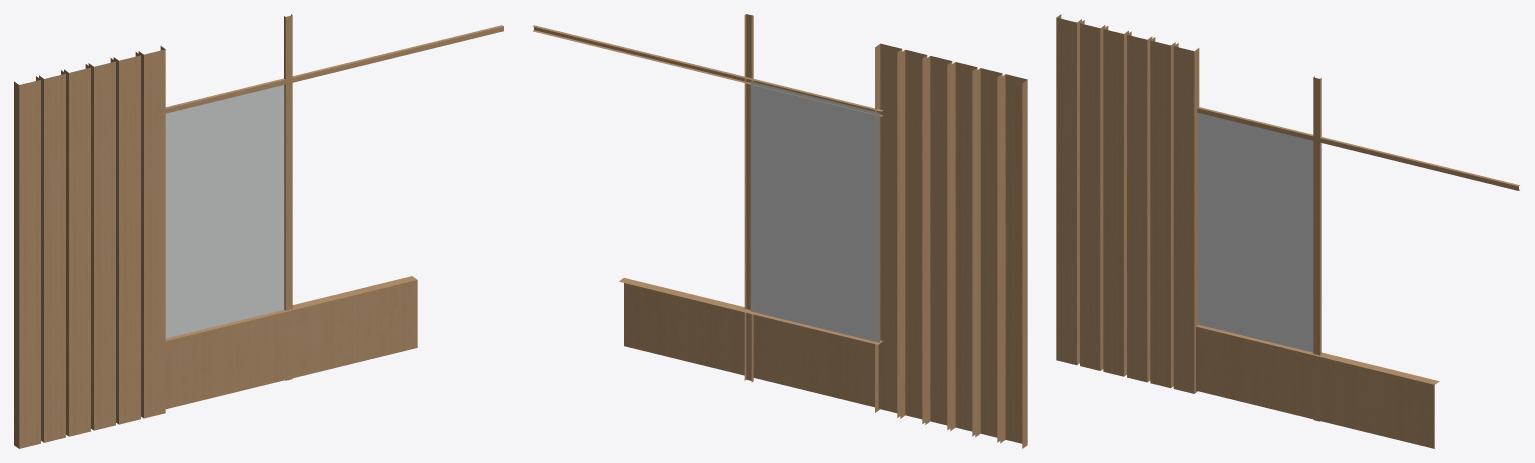
Rendered from M_zhuangshiqiangR06.FBX.
3 renders of one model, left to right at view 1: azimuth 30°, elevation 25°; view 2: azimuth 150°, elevation 25°; view 3: azimuth 330°, elevation 25°, orthographic. The views are drawn at different scales.
Parts seen in each view (by area): view 1: M_zhuangshiqiangR06_01, M_zhuangshiqiangR06_02; view 2: M_zhuangshiqiangR06_01, M_zhuangshiqiangR06_02; view 3: M_zhuangshiqiangR06_01, M_zhuangshiqiangR06_02.
Boxes of the visible parts, left/top/right/bottom form: M_zhuangshiqiangR06_01: left=14, top=14, right=503, bottom=448; M_zhuangshiqiangR06_02: left=165, top=85, right=284, bottom=338; M_zhuangshiqiangR06_01: left=532, top=14, right=1027, bottom=448; M_zhuangshiqiangR06_02: left=750, top=81, right=880, bottom=344; M_zhuangshiqiangR06_01: left=1056, top=14, right=1519, bottom=448; M_zhuangshiqiangR06_02: left=1198, top=113, right=1313, bottom=352.
Size of the model in its own units: 5.69 by 4.05 by 0.1408.
